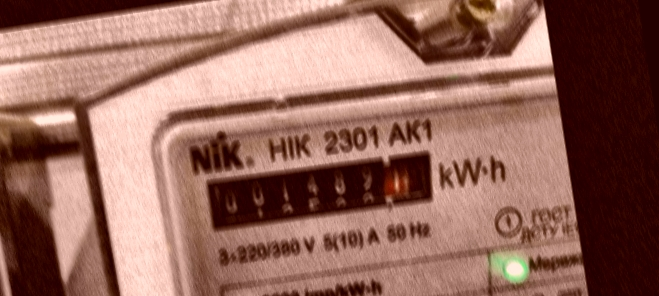0: (244, 178, 264, 205), (218, 186, 237, 213)
1: (273, 173, 291, 204), (384, 162, 401, 194)
4: (299, 170, 319, 198)
8: (325, 166, 346, 195)
9: (354, 164, 373, 191)
screen: (186, 135, 451, 248)
